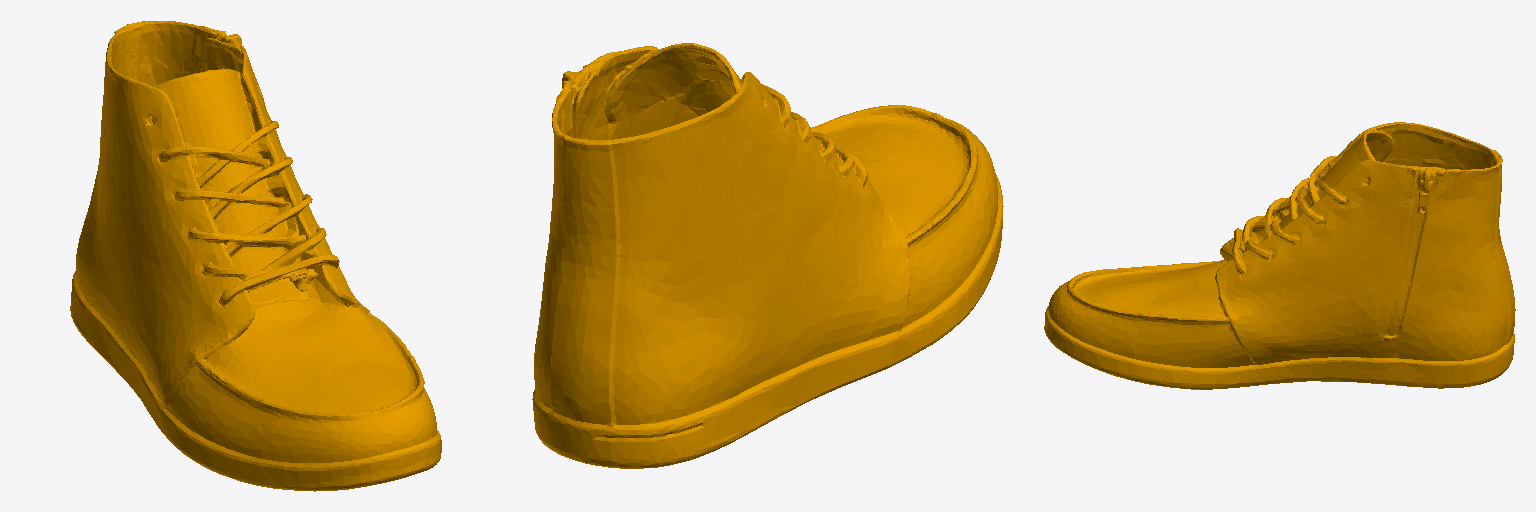
The robot description file, URDF, robot "2vt6yo8f":
<?xml version='1.0'?>

<robot name="2vt6yo8f">
    <static>false</static>
    <link name="link">
        <inertial>
            <mass value="0.12035557606438171"/>
            <inertia ixx="0.00015995576253321938" ixy="-6.421465627633653e-06" ixz="-2.8183761220528836e-06"
                     iyy="4.8183698692630366e-05" iyz="-1.2344390948315336e-05" izz="0.00015163774455913053"/>
        </inertial>
        <collision name="collision">
            <geometry>
                <mesh filename="package://miscnet/train/2vt6yo8f/collision_model_vhacd.obj"/>
            </geometry>
        </collision>
        <visual name="visual">
            <geometry>
                <mesh filename="package://miscnet/train/2vt6yo8f/visual_model.obj"/>
            </geometry>
        </visual>
    </link>
</robot>

--- What the picture shows (computed from the rendered views, not written in the file) ---
The picture shows the robot from 3 angles, left to right: view 1: azimuth 30°, elevation 25°; view 2: azimuth 150°, elevation 25°; view 3: azimuth 270°, elevation 25°; orthographic projection.
Model 2vt6yo8f with 1 links and 0 joints (none), rooted at link, posed all joints at 0.
Links seen in each view (by area): view 1: link; view 2: link; view 3: link.
Boxes of the visible links, <box> form: link: <box>70,21,441,491</box>; link: <box>532,43,1003,468</box>; link: <box>1044,122,1515,389</box>.
Bounding box of the posed robot: 0.0504 × 0.1349 × 0.0716 m (x, y, z).
Meshes: 1 distinct files referenced, 1 mesh visuals loaded (1 OBJ).
